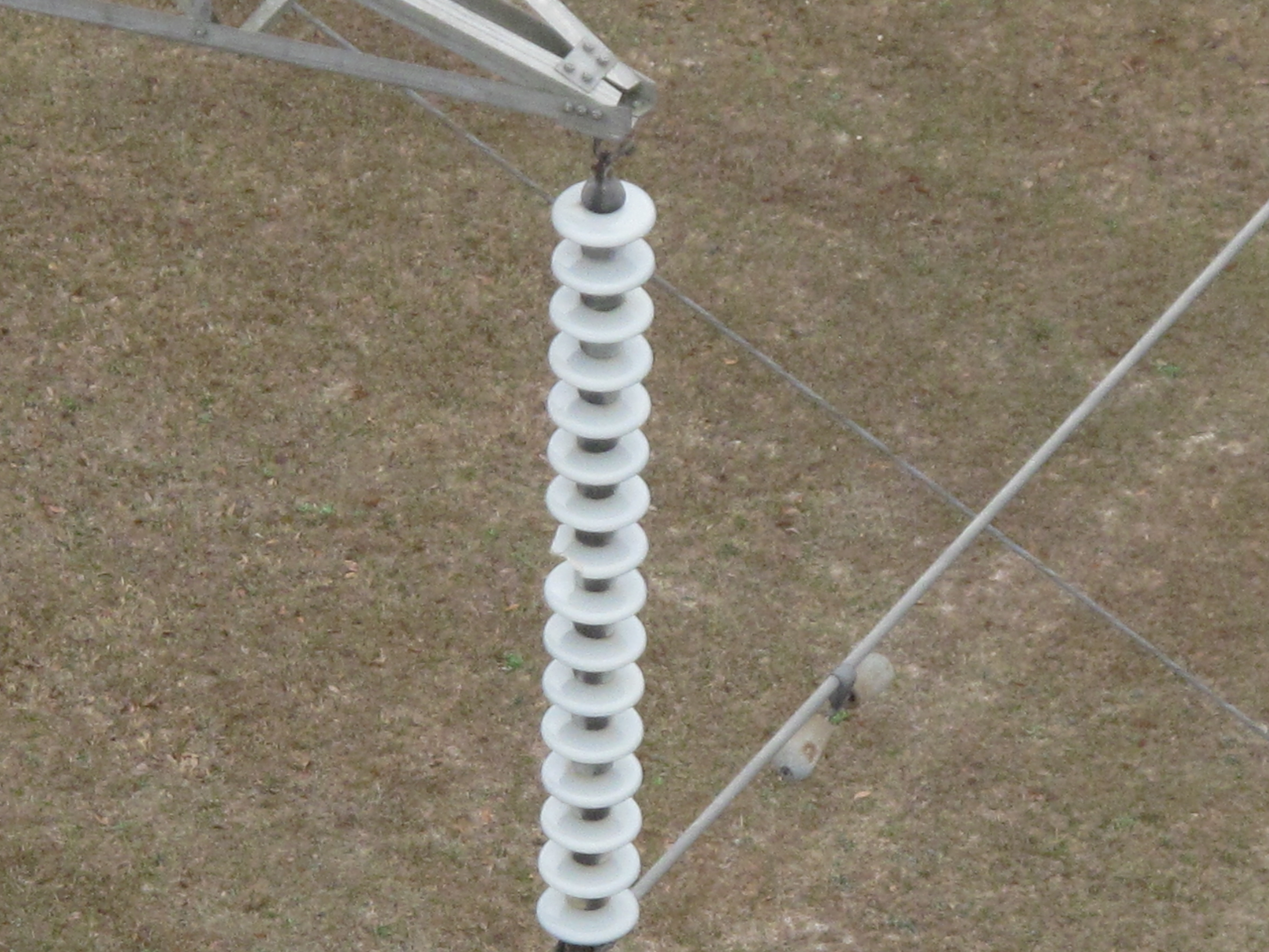damaged: (550, 523, 597, 577)
hammer: (769, 649, 895, 781)
insulator: (531, 184, 660, 942)
